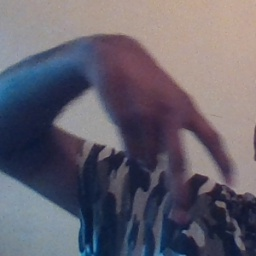Y: (114, 61, 244, 226)
